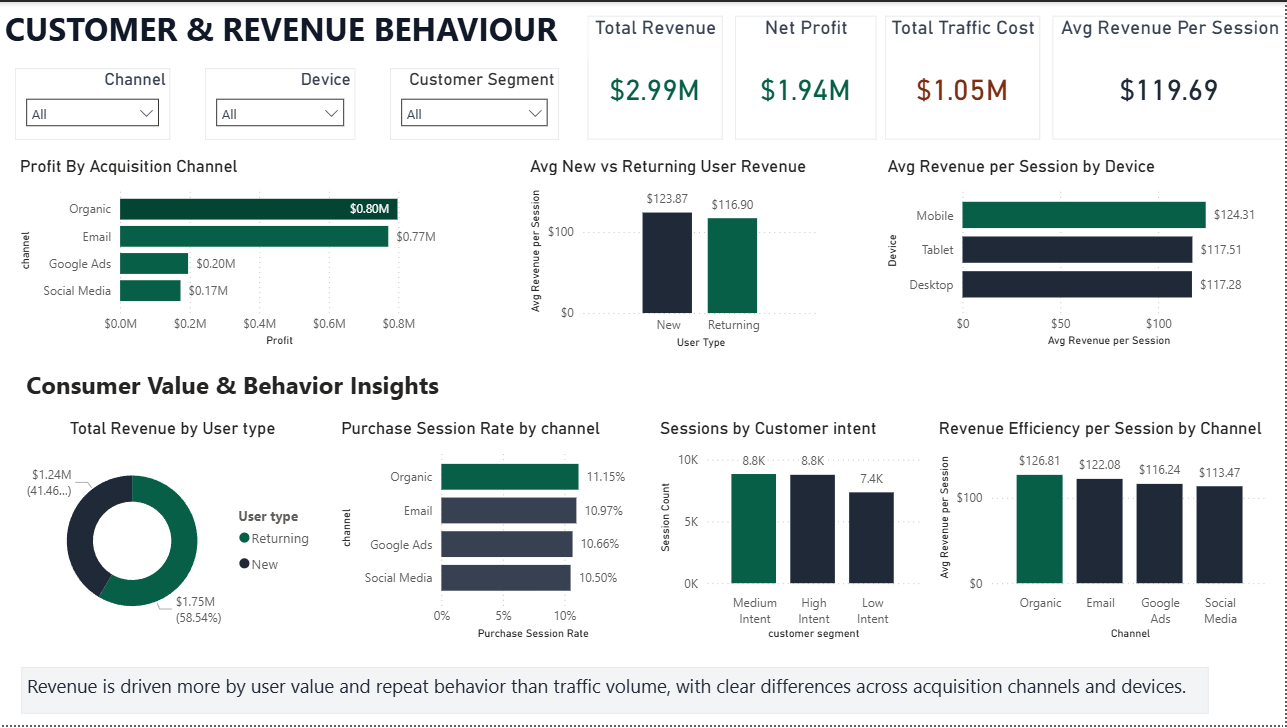

What the dashboard file says about the page in this screenshot:
{"tool":"powerbi","page":{"name":"Page 3","canvas":[1280,720],"ordinal":2},"visuals":[{"type":"card","title":"Total Revenue","fields":{"Values":["session_level.Total Revenue"]},"box":[584.7,13.7,134.3,123.2],"z":0},{"type":"card","title":"Total Traffic Cost","fields":{"Values":["session_level.Total Traffic Cost"]},"box":[880.7,13.7,154.3,123.2],"z":1000},{"type":"card","title":"Net Profit","fields":{"Values":["session_level.Profit"]},"box":[731.4,13.7,140.6,123.2],"z":2000},{"type":"card","title":"Avg Revenue Per Session","fields":{"Values":["session_level.Avg Revenue per Session"]},"box":[1047.4,13.7,232.6,123.2],"z":3000},{"type":"textbox","box":[0,0,584.7,58.5],"z":4000},{"type":"clusteredBarChart","title":"Profit By Acquisition Channel","fields":{"Category":["session_level.channel"],"Y":["session_level.Profit"]},"box":[14.9,153,444.1,195.3],"z":5000},{"type":"clusteredColumnChart","title":"Revenue Efficiency per Session by Channel","fields":{"Category":["session_level.channel"],"Y":["session_level.Avg Revenue per Session"]},"box":[929.2,414.2,338.4,225.2],"z":6000},{"type":"clusteredColumnChart","title":"Avg New vs Returning User Revenue","fields":{"Category":["session_level.user_type"],"Y":["session_level.Avg Revenue per Session"]},"box":[522.5,153,297.3,196.5],"z":7000},{"type":"clusteredBarChart","fields":{"Category":["session_level.device"],"Y":["session_level.Avg Revenue per Session"]},"box":[878.2,153,389.4,195.3],"z":8000},{"type":"slicer","title":"Channel","fields":{"Values":["session_level.channel"]},"box":[14.9,65.9,154.3,70.9],"z":9000},{"type":"slicer","title":"Device","fields":{"Values":["session_level.device"]},"box":[204,65.9,149.3,70.9],"z":10000},{"type":"textbox","box":[21.1,359.5,439.1,54.7],"z":11000},{"type":"donutChart","title":"Total Revenue by User type","fields":{"Category":["session_level.user_type"],"Y":["session_level.Total Revenue"]},"box":[21.1,414.2,301,225.2],"z":12000},{"type":"clusteredBarChart","fields":{"Category":["session_level.channel"],"Y":["session_level.Purchase Session Rate"]},"box":[334.6,414.2,304.8,225.2],"z":13000},{"type":"textbox","box":[21.1,661.8,1181.8,46],"z":14000},{"type":"slicer","title":"Customer Segment","fields":{"Values":["public customer_intent_segments_v2.customer_segment"]},"box":[388.1,65.9,167.9,70.9],"z":15000},{"type":"clusteredColumnChart","title":"Sessions by Customer intent","fields":{"Y":["session_level.Session Count"],"Category":["public customer_intent_segments_v2.customer_segment"]},"box":[651.8,414.2,268.7,225.2],"z":16000}]}

Visuals, with their boxes in screenshot pixels (x1, y1, x2, y2), scaled from the page's 1280x720 canvas onto the 1287x728 screenshot:
"Total Revenue" card: bbox=(588, 14, 723, 138)
"Total Traffic Cost" card: bbox=(886, 14, 1041, 138)
"Net Profit" card: bbox=(735, 14, 877, 138)
"Avg Revenue Per Session" card: bbox=(1053, 14, 1286, 138)
textbox: bbox=(0, 0, 588, 59)
"Profit By Acquisition Channel" clusteredBarChart: bbox=(15, 155, 462, 352)
"Revenue Efficiency per Session by Channel" clusteredColumnChart: bbox=(934, 419, 1275, 647)
"Avg New vs Returning User Revenue" clusteredColumnChart: bbox=(525, 155, 824, 353)
clusteredBarChart - session_level.device x session_level.Avg Revenue per Session: bbox=(883, 155, 1275, 352)
"Channel" slicer: bbox=(15, 67, 170, 138)
"Device" slicer: bbox=(205, 67, 355, 138)
textbox: bbox=(21, 363, 463, 419)
"Total Revenue by User type" donutChart: bbox=(21, 419, 324, 647)
clusteredBarChart - session_level.channel x session_level.Purchase Session Rate: bbox=(336, 419, 643, 647)
textbox: bbox=(21, 669, 1209, 716)
"Customer Segment" slicer: bbox=(390, 67, 559, 138)
"Sessions by Customer intent" clusteredColumnChart: bbox=(655, 419, 926, 647)
